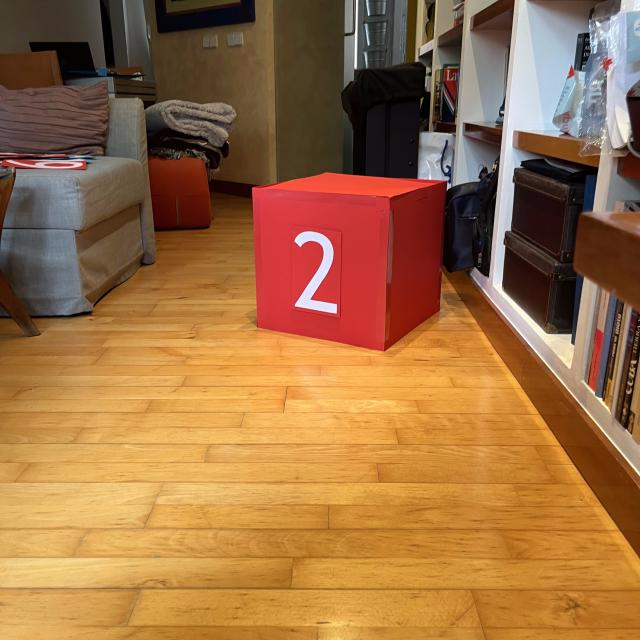box: (247, 167, 449, 353)
